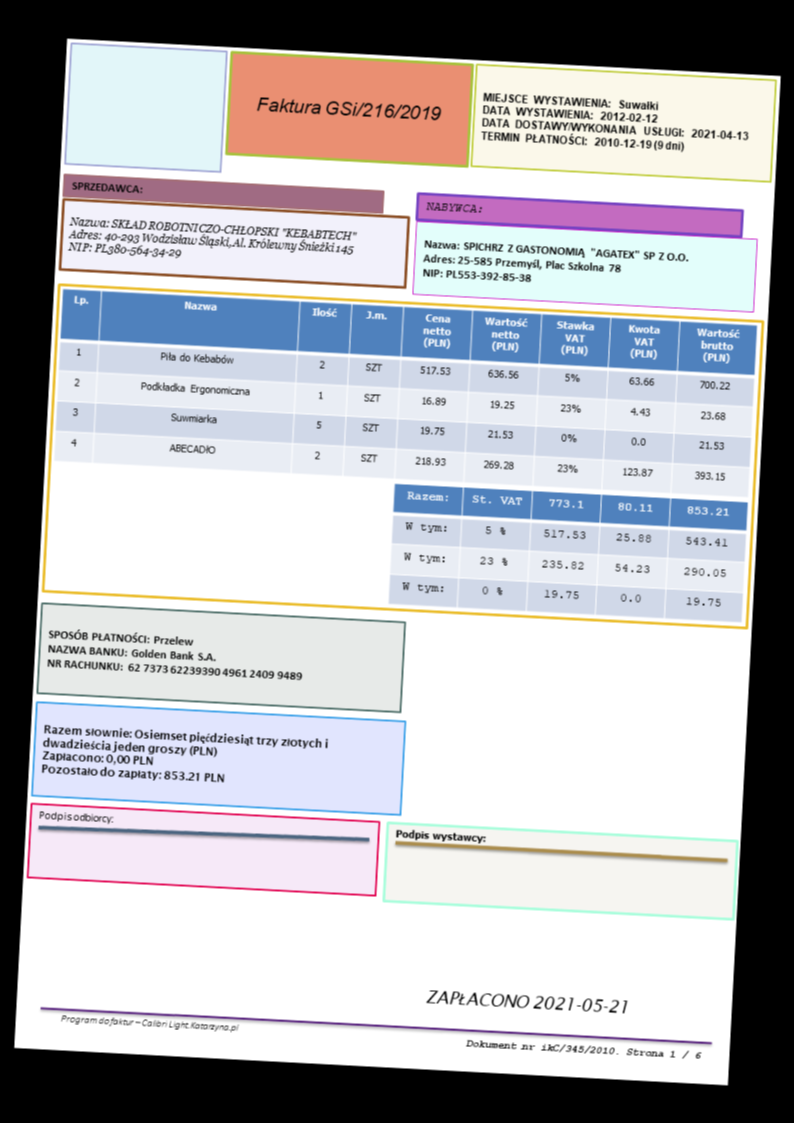Table: (52, 287, 757, 498), (387, 482, 748, 623)
TextBox: (39, 721, 331, 791), (478, 88, 751, 156), (65, 214, 360, 270), (420, 237, 691, 292), (44, 626, 305, 682), (422, 985, 629, 1018), (462, 1036, 703, 1062), (253, 93, 442, 123), (57, 1012, 241, 1035), (392, 826, 487, 846), (35, 807, 114, 826), (69, 178, 143, 195), (424, 199, 483, 215)
